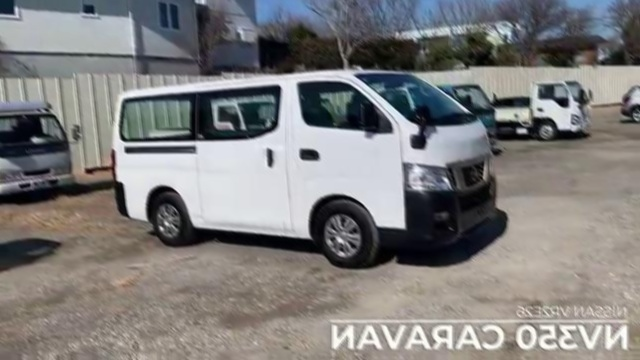van: (110, 70, 501, 260)
